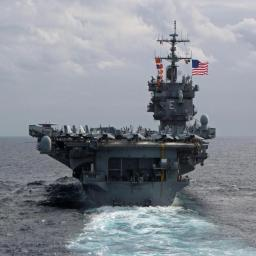Portanaves: (28, 18, 219, 213)
